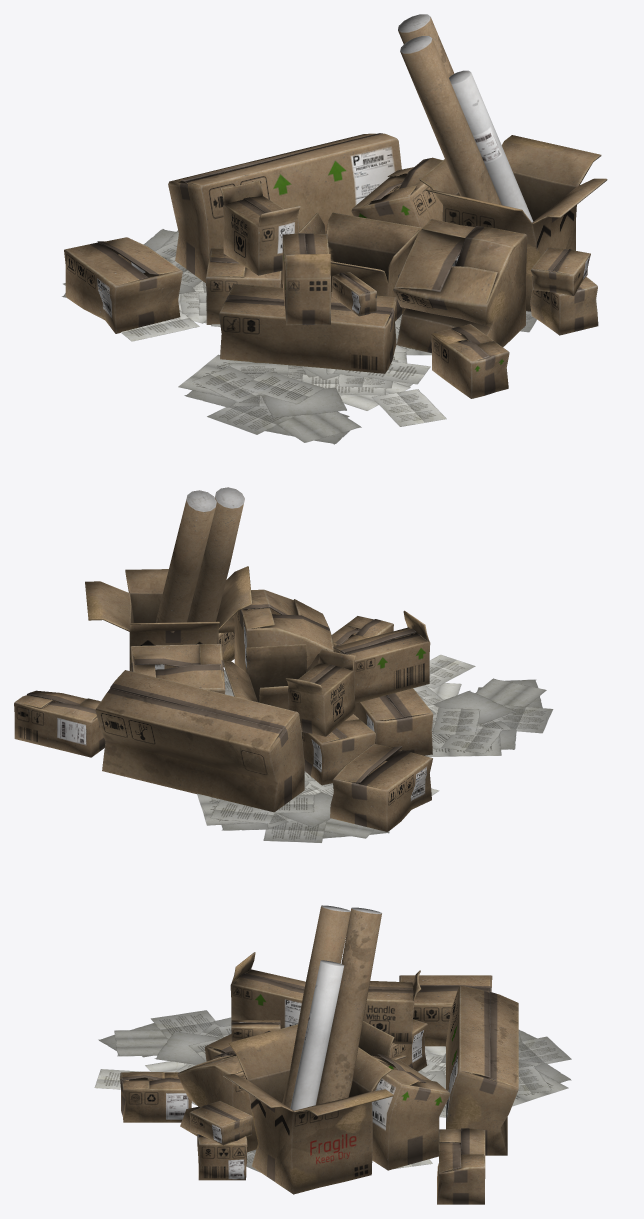
File: old_paper__cardboard_boxes.glb
3 renders of one model, top to bottom at view 1: azimuth 30°, elevation 25°; view 2: azimuth 150°, elevation 25°; view 3: azimuth 270°, elevation 25°, orthographic. The views are drawn at different scales.
Parts seen in each view (by area): view 1: Object_2, Object_3; view 2: Object_2, Object_3; view 3: Object_2, Object_3.
Part boxes in pixels (bbox=[...]): Object_2: bbox=[64, 14, 607, 398]; Object_3: bbox=[62, 229, 536, 444]; Object_2: bbox=[14, 487, 433, 831]; Object_3: bbox=[197, 654, 553, 842]; Object_2: bbox=[120, 905, 518, 1204]; Object_3: bbox=[94, 1010, 571, 1172].
Size of the model in its own units: 3.68 by 1.78 by 4.22.
Materials: 2 (2 with a texture image).
